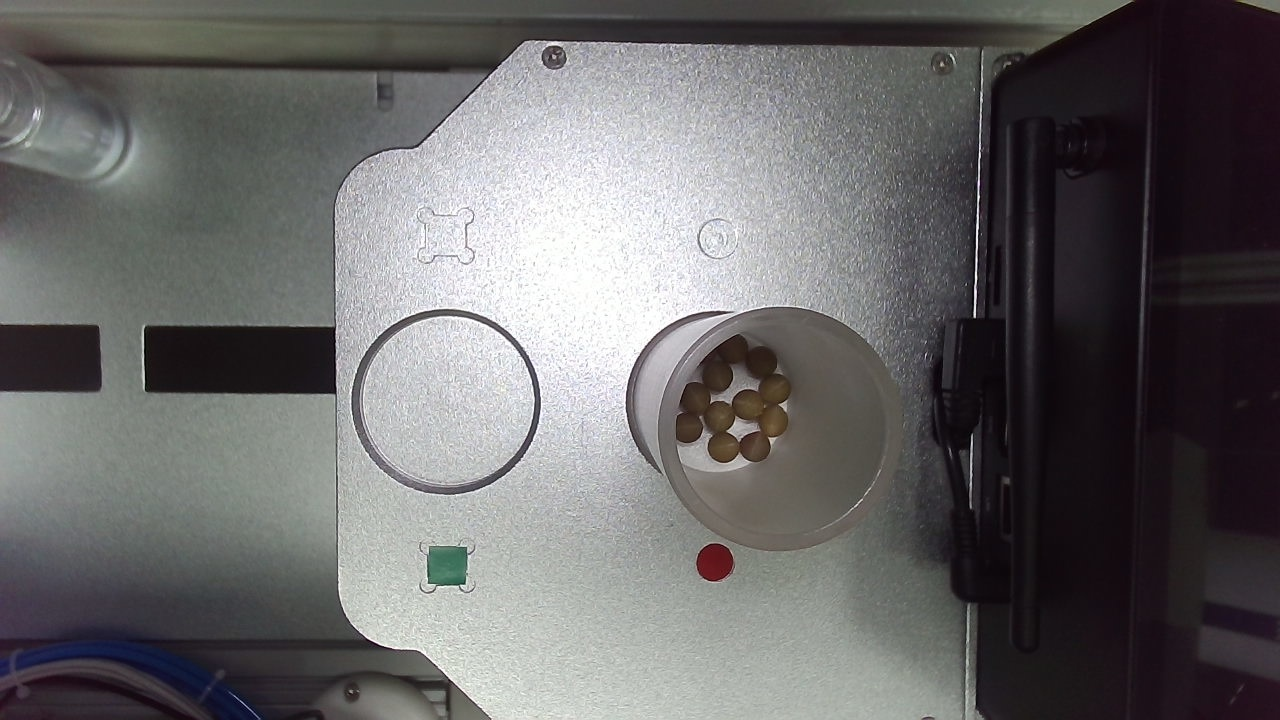XLabel: (650, 319, 684, 352)
YLabel: (431, 322, 466, 357)
none: (591, 391, 748, 551)
transparenexcept: (268, 395, 531, 615)
